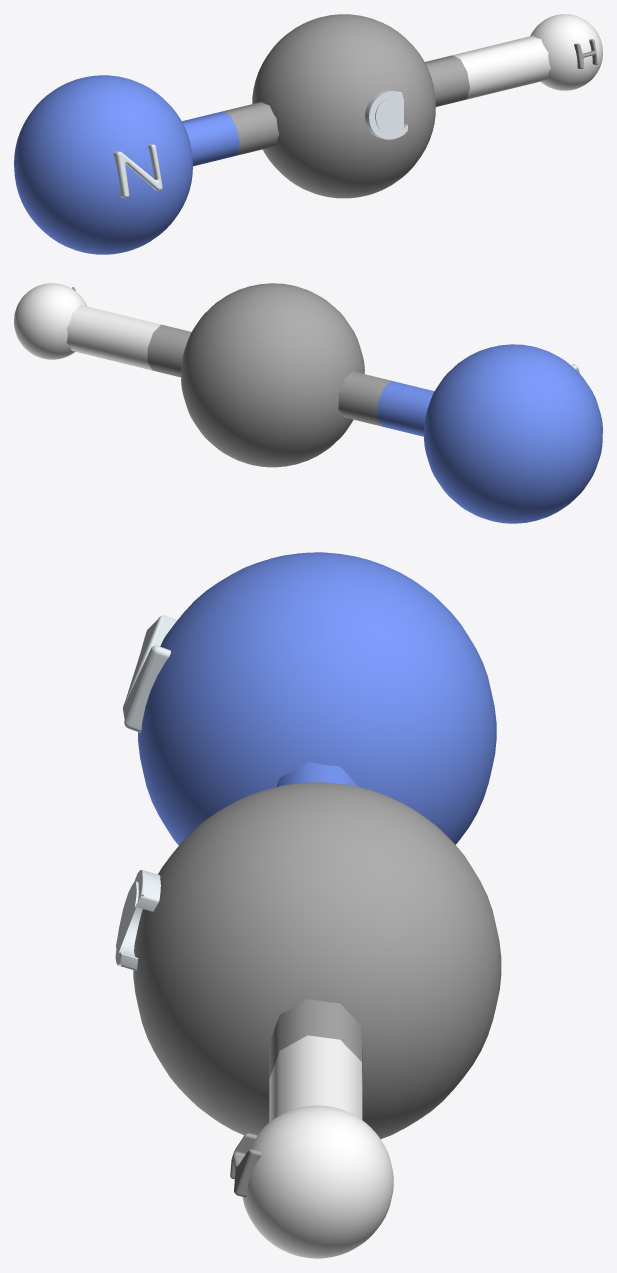
File: hydrogencyanide.fbx
The picture shows the model from 3 angles, top to bottom: view 1: azimuth 30°, elevation 25°; view 2: azimuth 150°, elevation 25°; view 3: azimuth 270°, elevation 25°; orthographic projection. The views are drawn at different scales.
Visible parts, largest first — view 1: molecule; view 2: molecule; view 3: molecule.
Boxes of the visible parts, x1,y1,x2,y2 form: molecule: [14, 14, 602, 254]; molecule: [14, 283, 602, 523]; molecule: [115, 552, 501, 1258].
Bounding box in the file's own units: 276 × 76.94 × 80.61.
